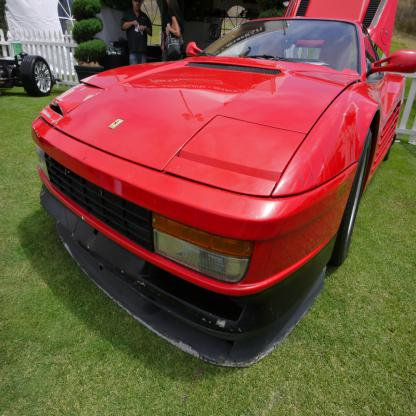Car: (30, 0, 415, 370), (0, 50, 62, 97)
